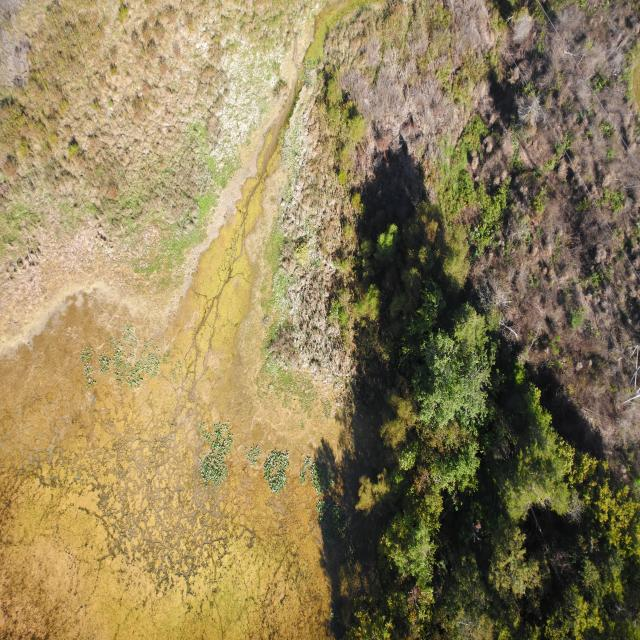Area of Interest: (368, 334, 632, 616)
